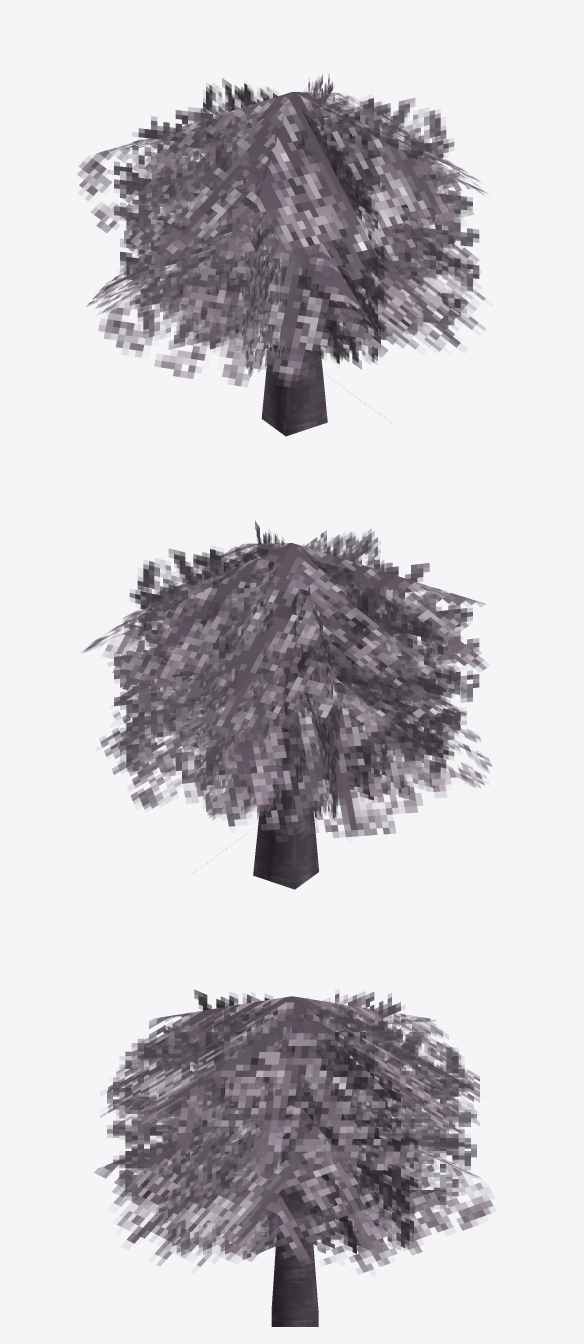
File: Environment - Debris and Ruins - Rubble Mound - Debris - PMDsrtPple.glb
3 renders of one model, top to bottom at view 1: azimuth 30°, elevation 25°; view 2: azimuth 150°, elevation 25°; view 3: azimuth 270°, elevation 25°, orthographic. The views are drawn at different scales.
Parts seen in each view (by area): view 1: PMDSRTPPLE; view 2: PMDSRTPPLE; view 3: PMDSRTPPLE.
Part boxes in pixels (x1,y1,x2,y2): PMDSRTPPLE: (77, 73, 486, 436); PMDSRTPPLE: (81, 521, 491, 889); PMDSRTPPLE: (94, 989, 493, 1326).
Bounding box in the file's own units: 10.42 × 6.67 × 10.42.
1 material, 1 textured.
